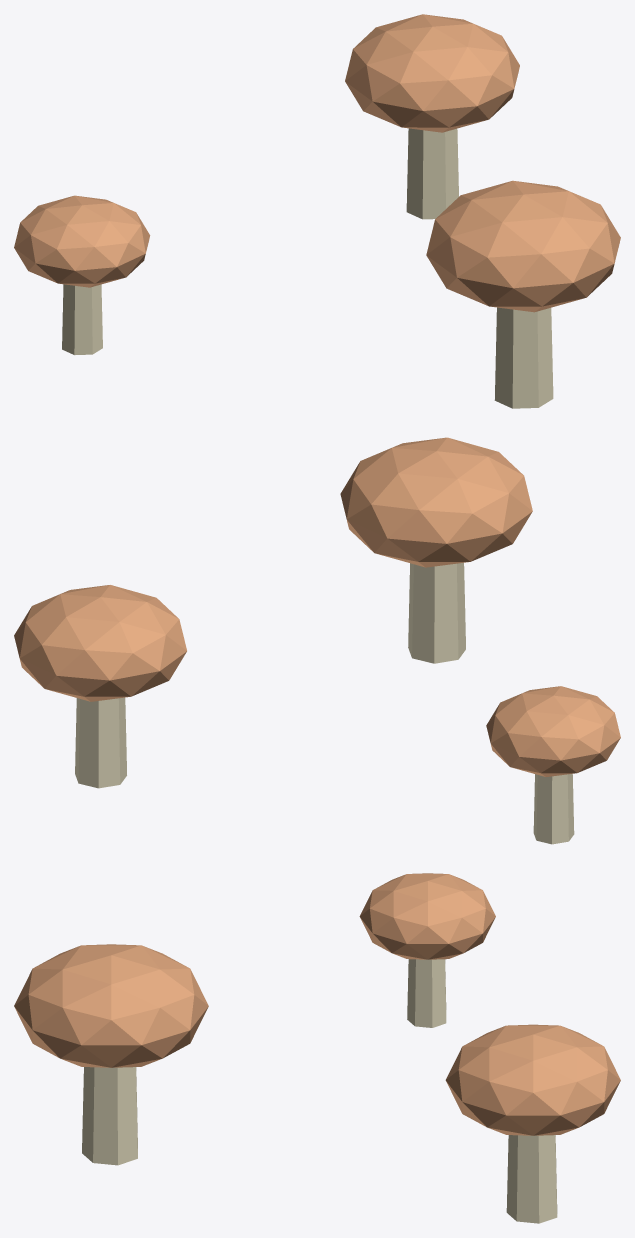
The model's file is CC_CropFungus_Young.fbx.
3 renders of one model, top to bottom at view 1: azimuth 30°, elevation 25°; view 2: azimuth 150°, elevation 25°; view 3: azimuth 270°, elevation 25°, orthographic. The views are drawn at different scales.
Visible parts, largest first — view 1: Cap.002, Cap.001, Cap, Stem.002, Stem.001, Stem; view 2: Cap.002, Cap.001, Cap, Stem.002, Stem.001, Stem; view 3: Cap.002, Cap.001, Cap, Stem.002, Stem.001, Stem.
Boxes of the visible parts, x1=… form: Cap.002: x1=426, y1=180, x2=620, y2=312; Cap.001: x1=345, y1=14, x2=519, y2=132; Cap: x1=14, y1=195, x2=150, y2=287; Stem.002: x1=494, y1=307, x2=553, y2=408; Stem.001: x1=406, y1=128, x2=458, y2=219; Stem: x1=62, y1=284, x2=102, y2=355; Cap.002: x1=340, y1=437, x2=532, y2=567; Cap.001: x1=14, y1=585, x2=186, y2=701; Cap: x1=486, y1=686, x2=620, y2=776; Stem.002: x1=408, y1=562, x2=465, y2=663; Stem.001: x1=75, y1=697, x2=126, y2=788; Stem: x1=533, y1=774, x2=574, y2=844; Cap.002: x1=14, y1=944, x2=208, y2=1067; Cap.001: x1=445, y1=1024, x2=620, y2=1135; Cap: x1=359, y1=873, x2=495, y2=959; Stem.002: x1=82, y1=1067, x2=137, y2=1165; Stem.001: x1=506, y1=1135, x2=557, y2=1223; Stem: x1=407, y1=959, x2=446, y2=1027.
Bounding box in the file's own units: 1.29 × 0.4662 × 1.3.
